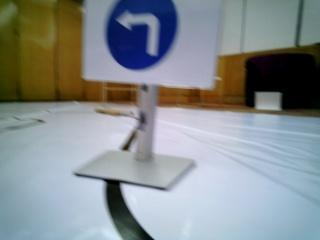left: (86, 0, 193, 76)
